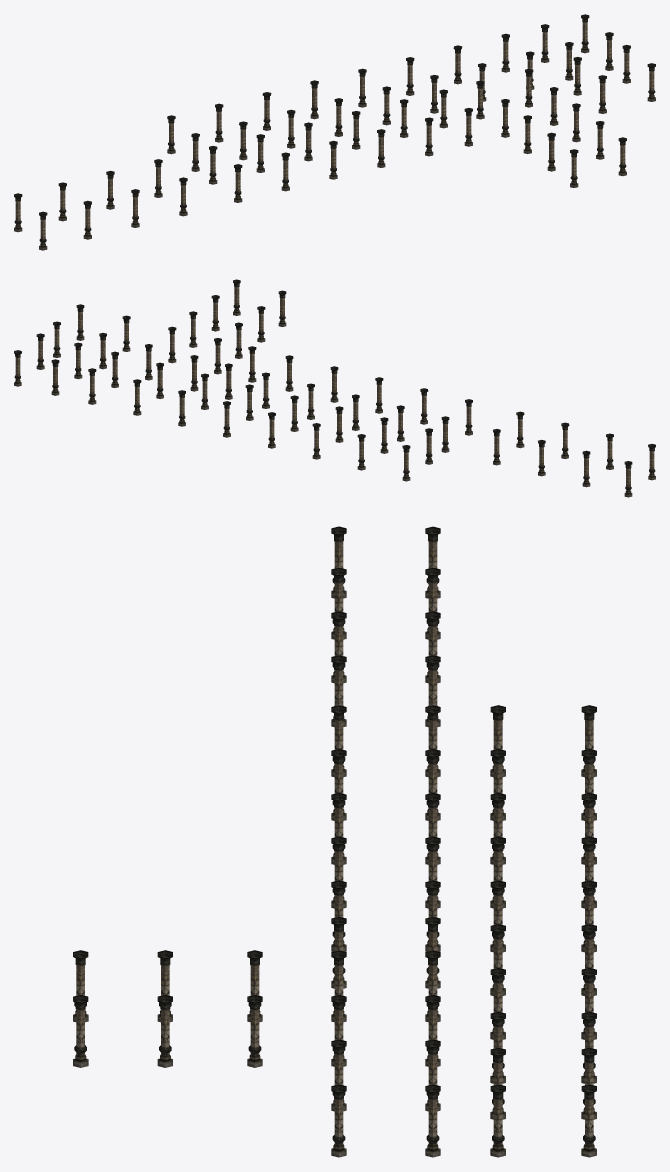
File: Old_PhoenixCastle_Tunnel_destruct_wall03.FBX
3 renders of one model, top to bottom at view 1: azimuth 30°, elevation 25°; view 2: azimuth 150°, elevation 25°; view 3: azimuth 270°, elevation 25°, orthographic. The views are drawn at different scales.
Visible parts, largest first — view 1: Object014; view 2: Object014; view 3: Object014.
Boxes of the visible parts, x1=… form: Object014: x1=14, y1=14, x2=655, y2=250; Object014: x1=14, y1=279, x2=655, y2=497; Object014: x1=73, y1=526, x2=596, y2=1157.
Size of the model in its own units: 10291 by 557 by 4030.
1 material, 1 textured.
